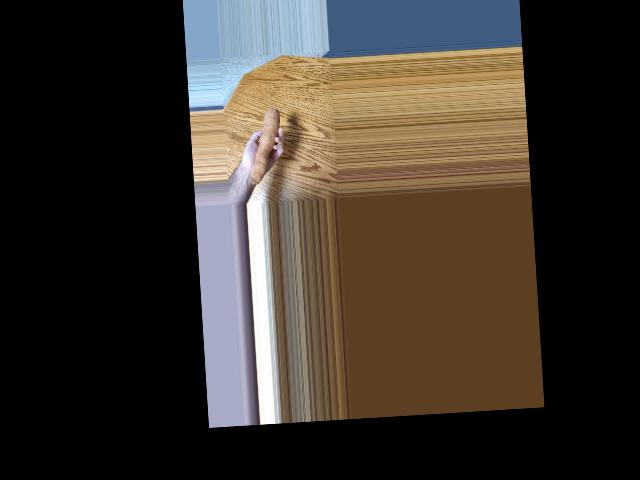sweet_potato: (250, 96, 287, 175)
